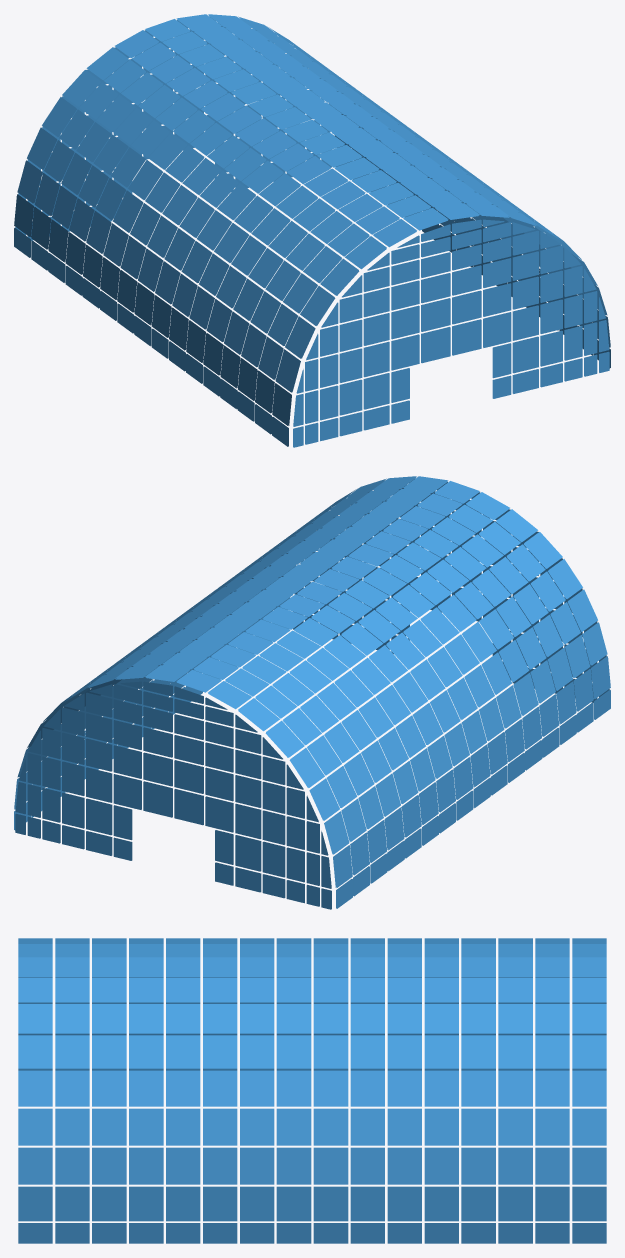
Rendered from Biosphere_windows.fbx.
3 renders of one model, top to bottom at view 1: azimuth 30°, elevation 25°; view 2: azimuth 150°, elevation 25°; view 3: azimuth 270°, elevation 25°, orthographic. The views are drawn at different scales.
Visible parts, largest first — view 1: BioSphere_Windows; view 2: BioSphere_Windows; view 3: BioSphere_Windows.
Part boxes in pixels (box(x1,y1,x2,y2)): BioSphere_Windows: box(14, 14, 610, 447); BioSphere_Windows: box(14, 476, 610, 909); BioSphere_Windows: box(18, 938, 606, 1243).
Bounding box in the file's own units: 3250 × 1814 × 4850.
